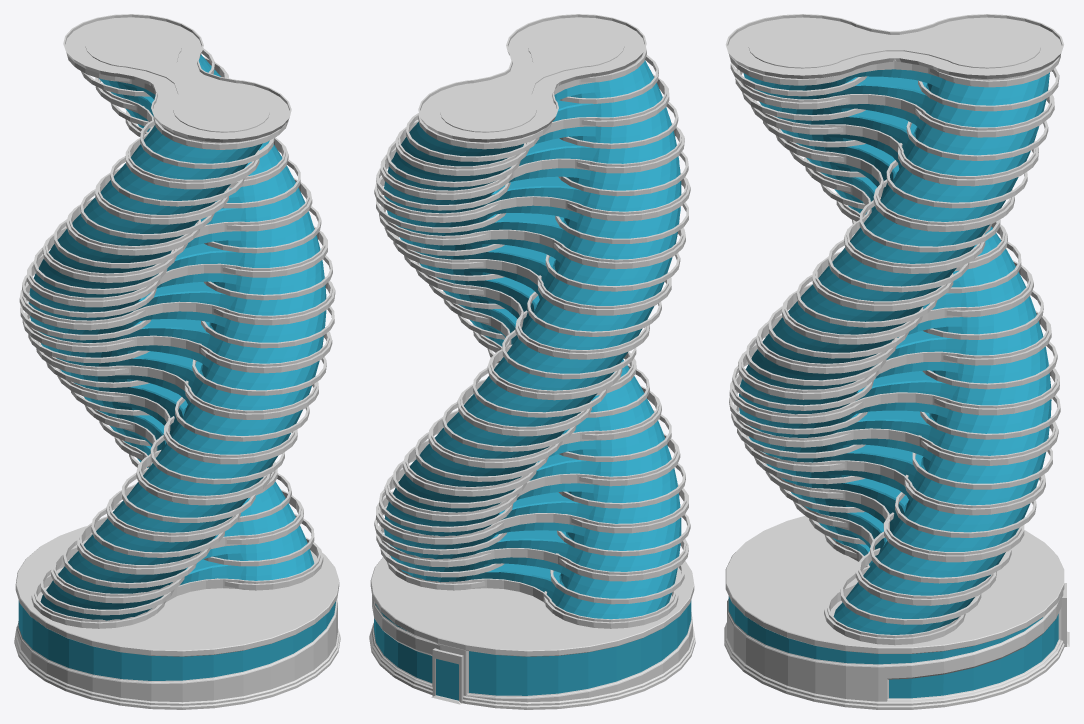
File: DNA Building.fbx
3 views of the same model, side by side, from view 1: azimuth 30°, elevation 25°; view 2: azimuth 150°, elevation 25°; view 3: azimuth 270°, elevation 25° (orthographic). The views are drawn at different scales.
Parts seen in each view (by area): view 1: core connected.001; view 2: core connected.001; view 3: core connected.001.
Part boxes in pixels (x1=…): core connected.001: x1=14, y1=14, x2=340, y2=709; core connected.001: x1=369, y1=14, x2=695, y2=709; core connected.001: x1=724, y1=14, x2=1069, y2=709.
Bounding box in the file's own units: 501 × 961 × 508.
